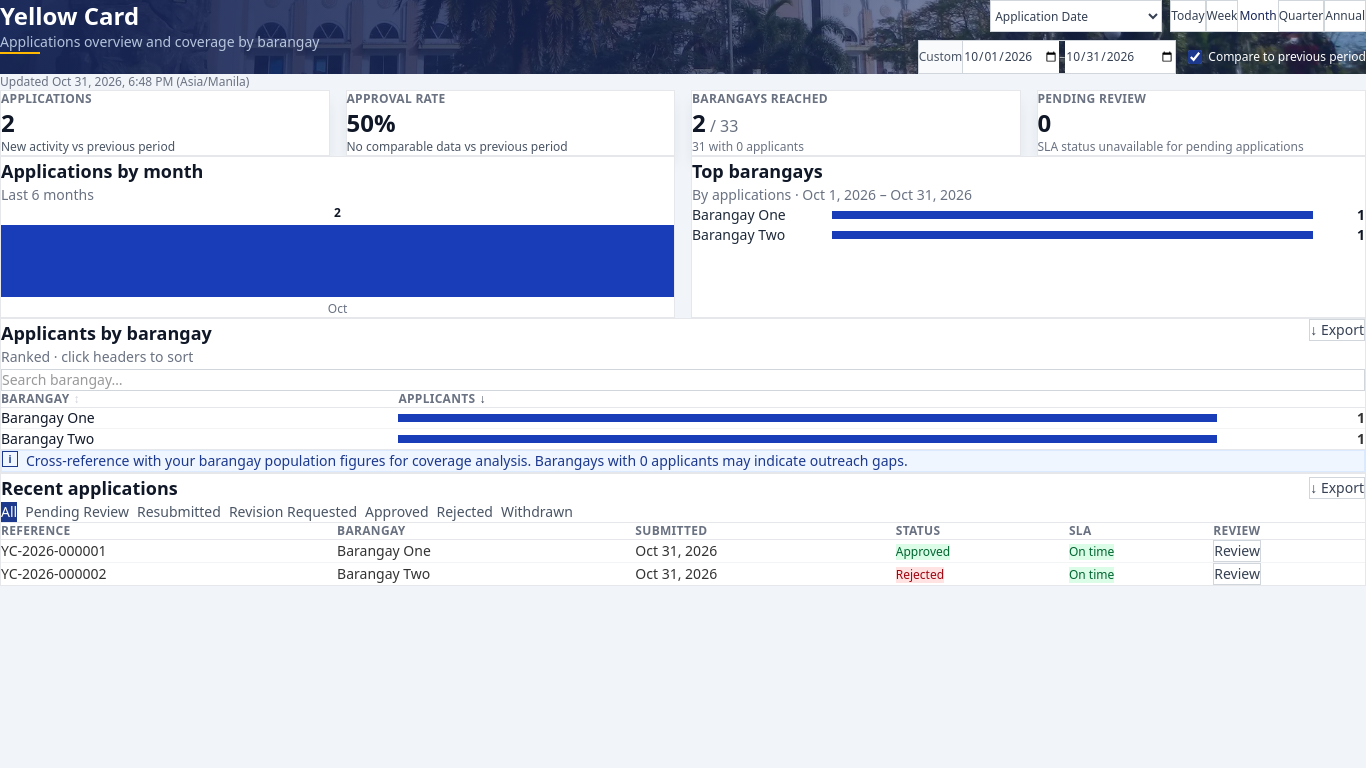
Test case: YellowCardPage › chart panels derive from listApplications(), not mock data › the barangay coverage panel respects the active status tab, not just raw rows
Expected: the text "Barangay One" below "Ranked · click headers to sort" is shown, [1,408,95,427]
Expected: the text "Barangay Two" below "Ranked · click headers to sort" is shown, [1,429,94,448]
Click the tab "Approved" at [397, 512], box [365,502,428,522]
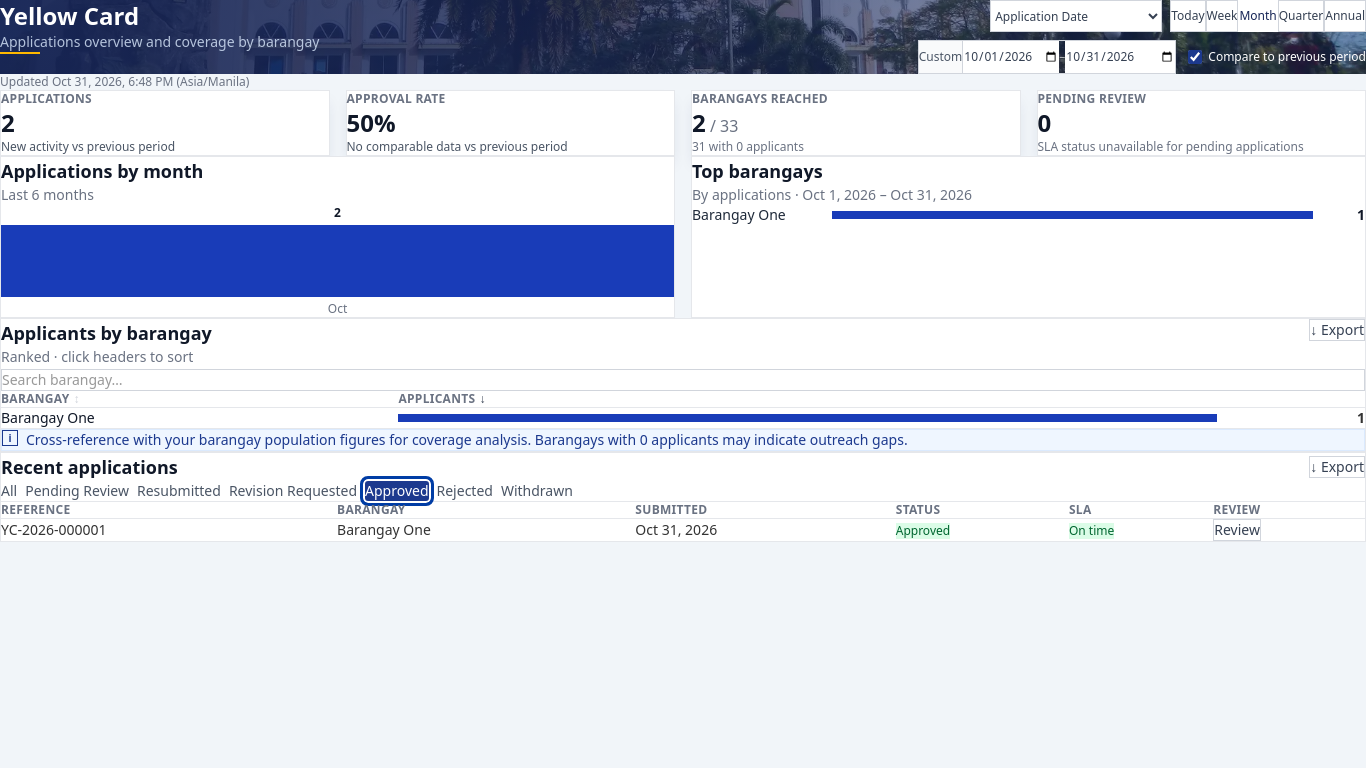
Expected: the text "Barangay One" below "Ranked · click headers to sort" is shown, [1,408,95,427]
Now the text "Barangay Two" is gone
